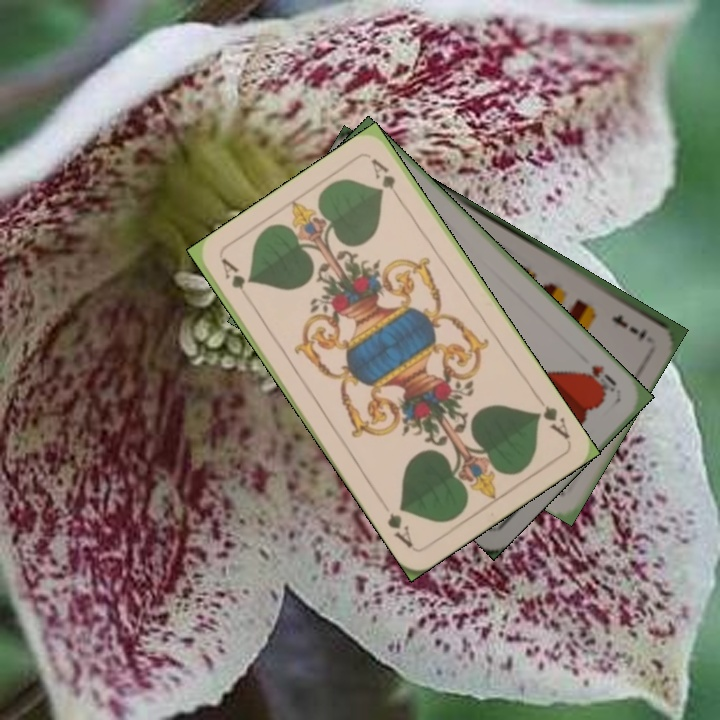E7: (608, 310, 650, 342)
GA: (530, 392, 573, 442), (217, 254, 254, 308)
HO: (579, 361, 619, 397)
